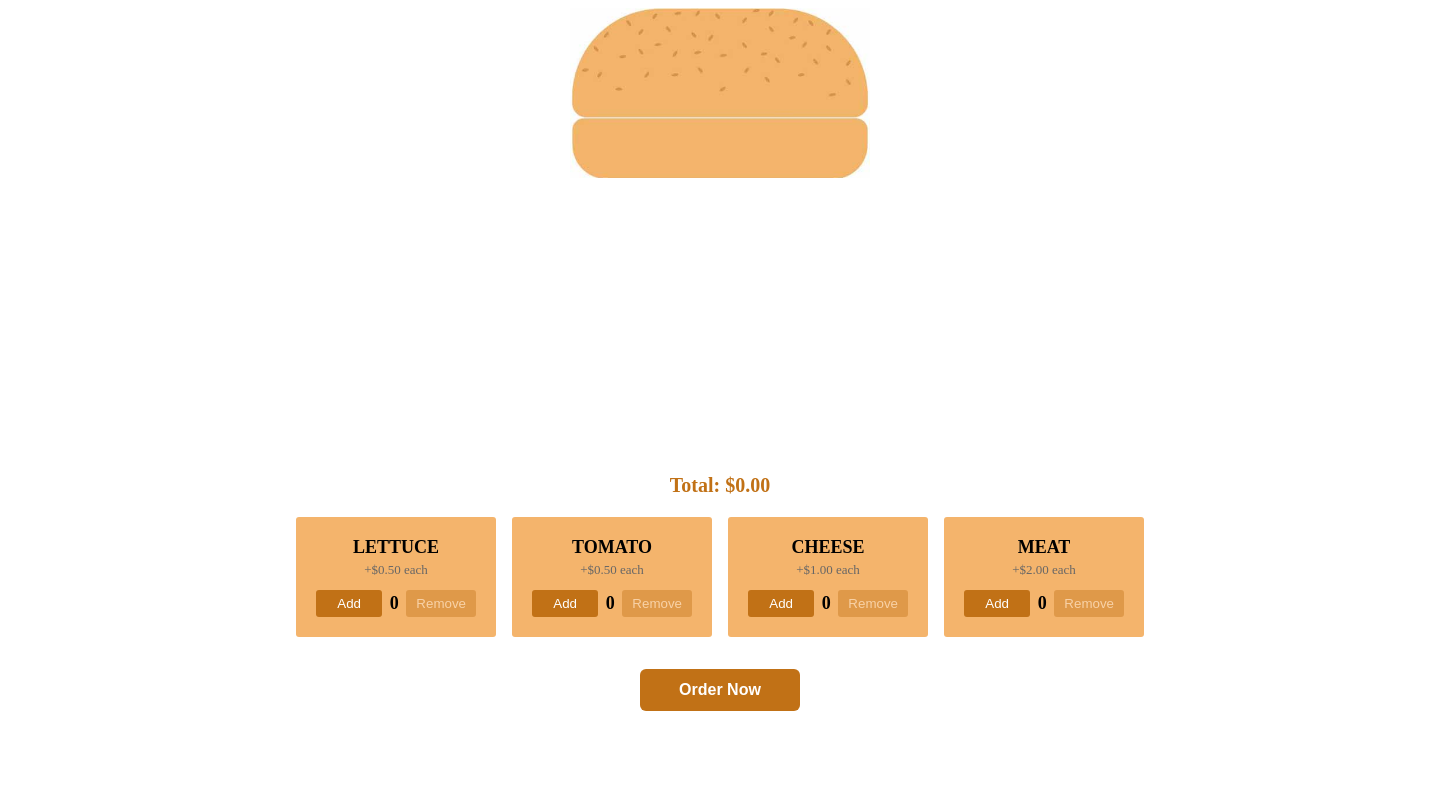
Burger › shows ingredient summary in modal
Click the button "Add" below "2.00" at (997, 604), box [964,590,1030,617]
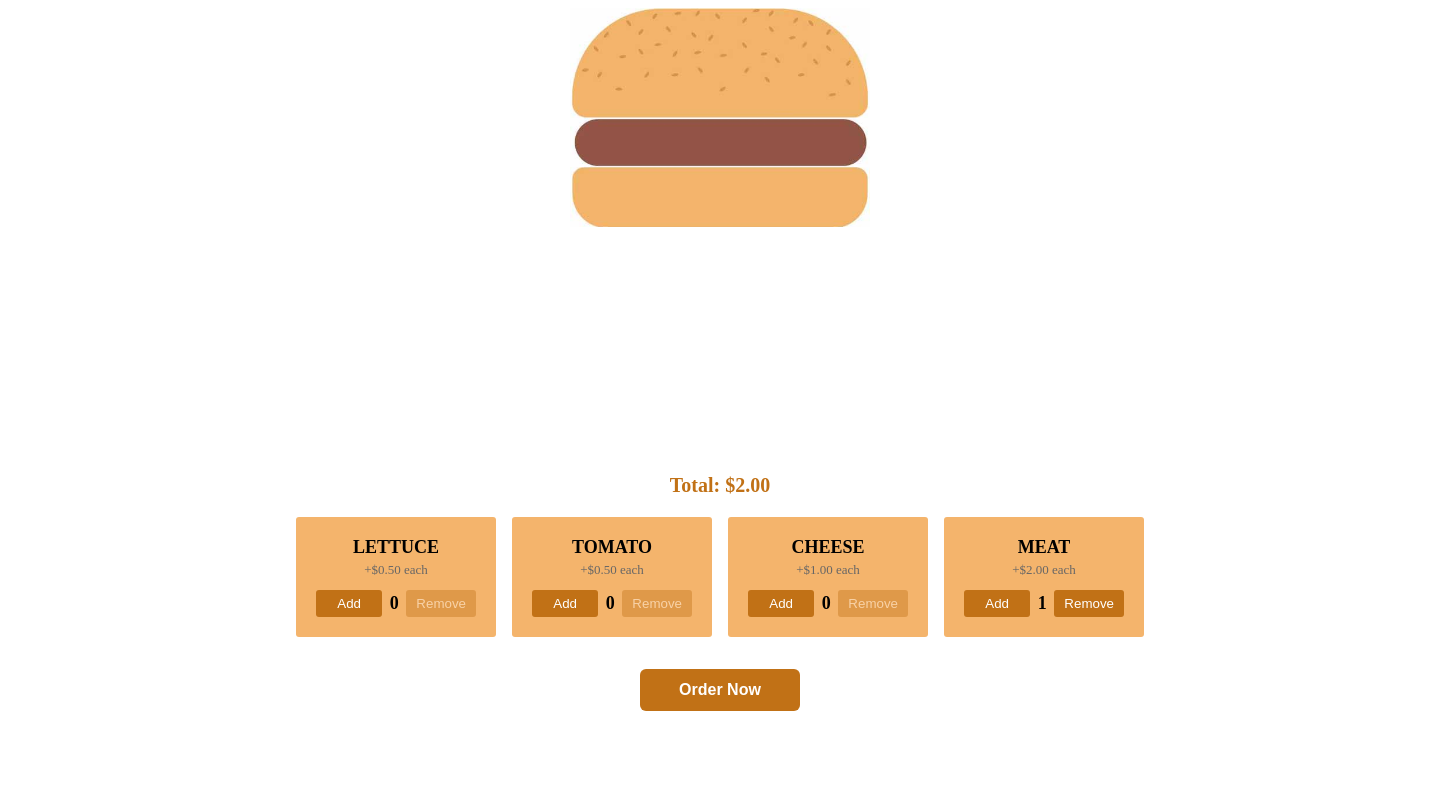
Click the button "Order Now" at (720, 690), box [640,669,800,711]
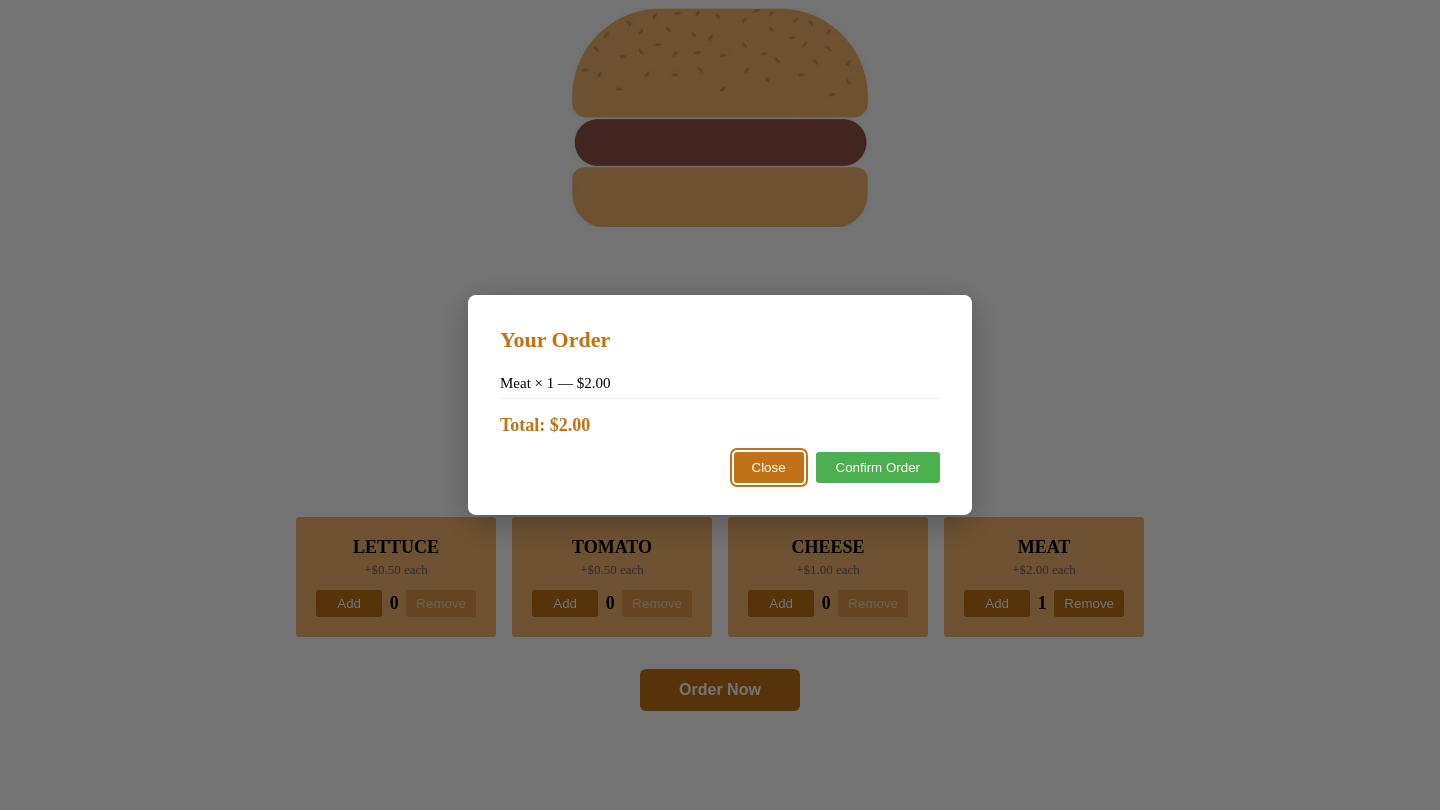
expect the list item shows "Meat": met, box [500,375,531,391]
expect the list item shows "$2.00": met, box [500,369,940,399]
